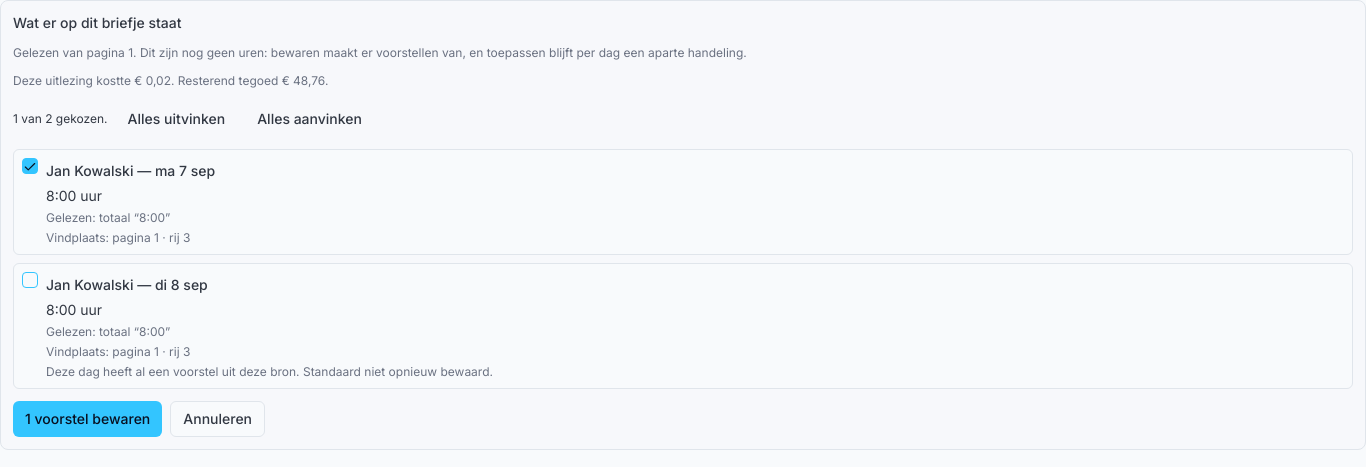
Scenario: a week that changed while the panel was open › unticks a day that gained a proposal elsewhere, and keeps a box the reviewer ticked
Check: the text "1 van 2 gekozen." is shown, box [13,111,108,127]
Click the checkbox in the row of "di 8 sep": (30,280) [22,272,38,288]
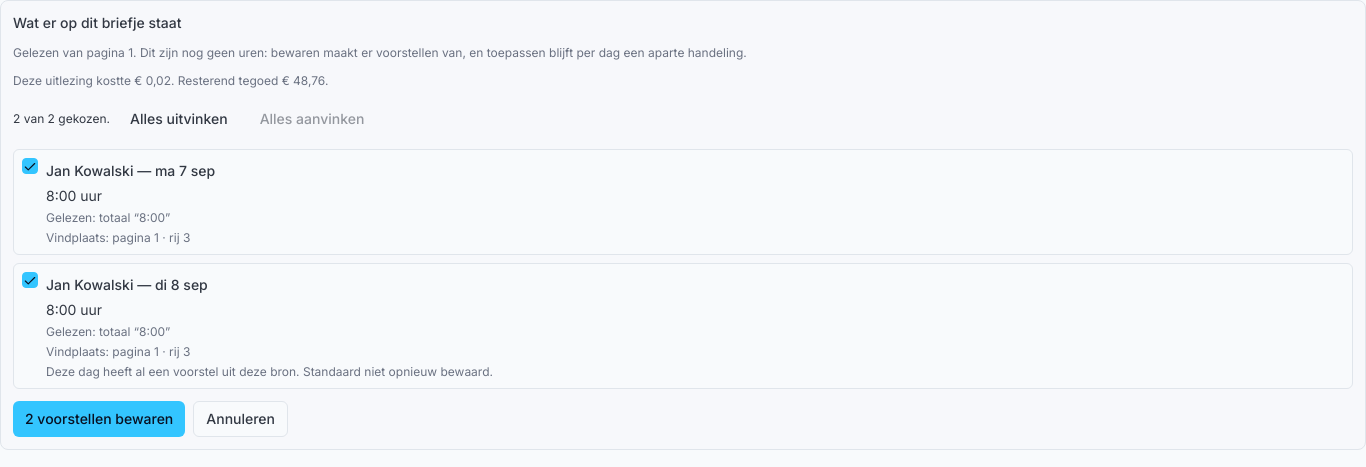
Check: the text "2 van 2 gekozen." is shown, box [13,111,110,127]
